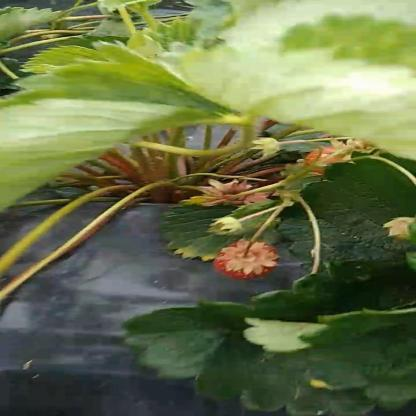ripe: (214, 242, 278, 277), (306, 144, 354, 175)
